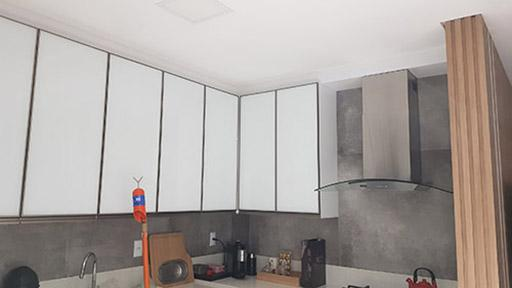Detector_Tensao_Contato: (131, 175, 147, 224)
